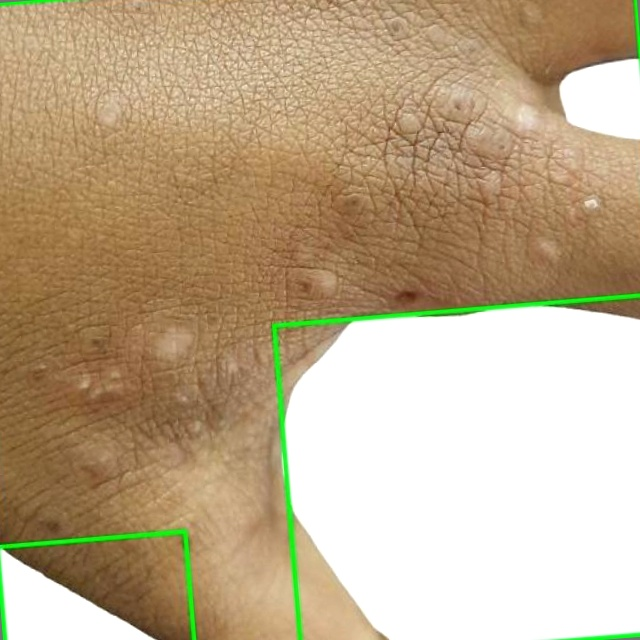Scabies: (0, 0, 639, 639), (273, 296, 639, 639), (0, 531, 193, 639)
